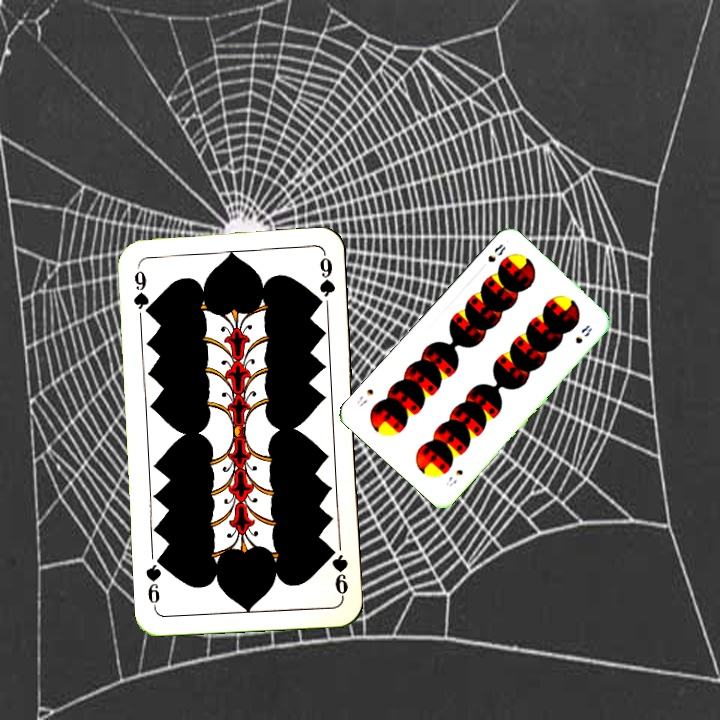G9: (324, 542, 351, 601), (130, 261, 154, 320)
S8: (442, 465, 466, 490), (484, 240, 508, 265)
